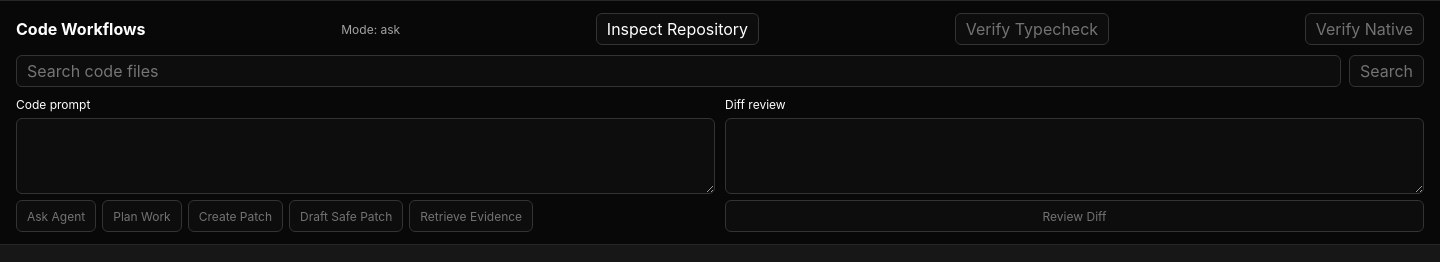
Scenario: CodeWorkflowPanel › disables patch and verify controls outside code execution modes
Type "Explain this file" into the text box labelled "Code prompt" at (366, 156), box 16,118 -> 715,194
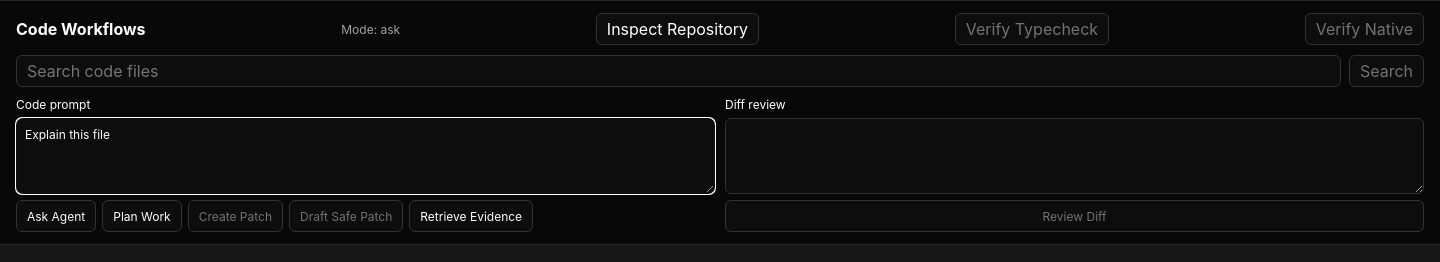
Check: the button "Create Patch" is disabled, box 188,200 -> 283,232
Check: the button "Ask Agent" is enabled, box 16,200 -> 96,232
Check: the button "Plan Work" is enabled, box 102,200 -> 182,232
